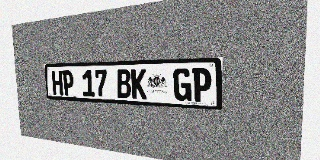1: (82, 70, 95, 97)
7: (94, 70, 108, 97)
B: (116, 69, 131, 98)
G: (173, 68, 191, 101)
H: (51, 70, 63, 95)
K: (131, 69, 147, 99)
P: (192, 68, 211, 102), (62, 70, 74, 96)
